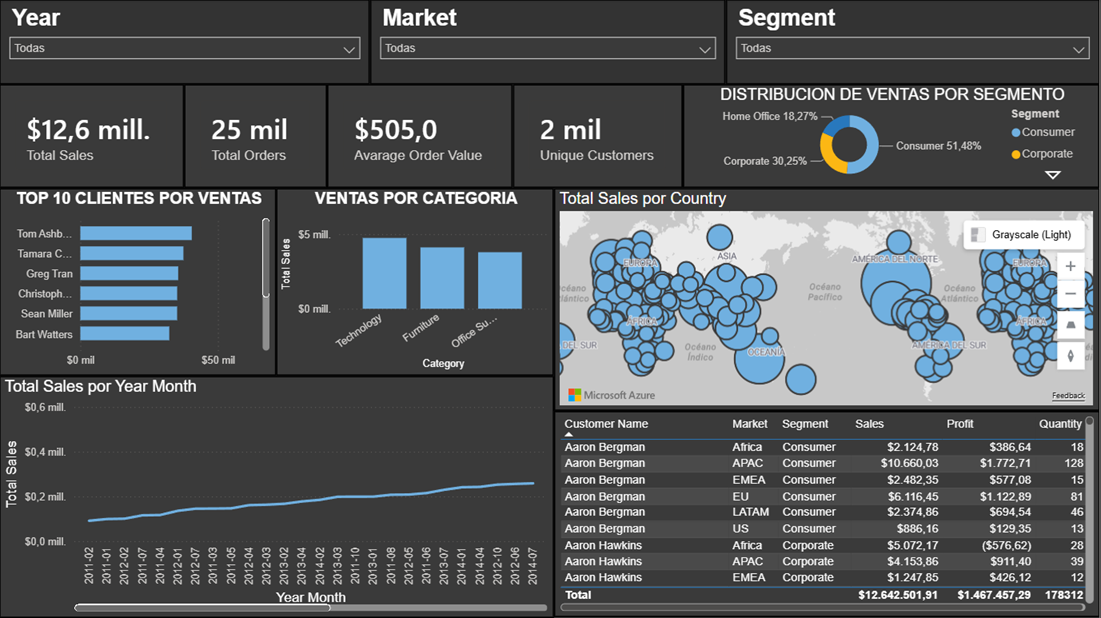

What the dashboard file says about the page in this screenshot:
{"tool":"powerbi","page":{"name":"Sales & Costumer Analysis","canvas":[1280,720],"ordinal":2},"visuals":[{"type":"slicer","fields":{"Values":["Calendar.Year"]},"box":[0,0,431.4,98.8],"z":0},{"type":"slicer","fields":{"Values":["Orders.Market"]},"box":[431.4,0,414,98.8],"z":1000},{"type":"slicer","fields":{"Values":["Orders.Segment"]},"box":[845.1,0,434.9,98.8],"z":2000},{"type":"cardVisual","fields":{"Data":["Orders.Total Sales"]},"box":[0,98.8,215.1,120.9],"z":3000},{"type":"cardVisual","fields":{"Data":["Orders.Total Orders"]},"box":[215.1,98.8,166.3,120.9],"z":4000},{"type":"cardVisual","fields":{"Data":["Orders.Avarage Order Value"]},"box":[381.4,98.8,216.3,120.9],"z":5000},{"type":"cardVisual","fields":{"Data":["Orders.Unique Customers"]},"box":[597.7,98.8,197.7,120.9],"z":6000},{"type":"barChart","title":"TOP 10 CLIENTES POR VENTAS","fields":{"Category":["Orders.Customer Name"],"Y":["Orders.Total Sales"]},"box":[0,219.8,322.1,218.6],"z":7000},{"type":"columnChart","title":"VENTAS POR CATEGORIA","fields":{"Category":["Orders.Category"],"Y":["Orders.Total Sales"]},"box":[322.1,219.8,323.3,218.6],"z":8000},{"type":"donutChart","title":"DISTRIBUCION DE VENTAS POR SEGMENTO","fields":{"Category":["Orders.Segment"],"Y":["Orders.Total Sales"]},"box":[795.4,98.8,484.9,120.9],"z":9000},{"type":"azureMap","fields":{"Category":["Orders.Country"],"Size":["Orders.Total Sales"]},"box":[645.4,219.8,634.9,259.3],"z":10000},{"type":"lineChart","fields":{"Y":["Orders.Total Sales"],"Category":["Calendar.Year Month"]},"box":[0,438.4,645.4,281.4],"z":11000},{"type":"tableEx","fields":{"Values":["Orders.Customer Name","Orders.Market","Orders.Segment","Sum(Orders.Sales)","Sum(Orders.Profit)","Sum(Orders.Quantity)"]},"box":[645,479,635,240],"z":12000}]}

Visuals, with their boxes in screenshot pixels (x1, y1, x2, y2), scaled from the page's 1280x720 canvas onto the 1101x618 screenshot:
slicer - Calendar.Year: 0 0 371 85
slicer - Orders.Market: 371 0 727 85
slicer - Orders.Segment: 727 0 1100 85
cardVisual - Orders.Total Sales: 0 85 185 189
cardVisual - Orders.Total Orders: 185 85 328 189
cardVisual - Orders.Avarage Order Value: 328 85 514 189
cardVisual - Orders.Unique Customers: 514 85 684 189
"TOP 10 CLIENTES POR VENTAS" barChart: 0 189 277 376
"VENTAS POR CATEGORIA" columnChart: 277 189 555 376
"DISTRIBUCION DE VENTAS POR SEGMENTO" donutChart: 684 85 1100 189
azureMap - Orders.Country x Orders.Total Sales: 555 189 1100 411
lineChart - Orders.Total Sales x Calendar.Year Month: 0 376 555 617
tableEx - Orders.Customer Name x Orders.Market: 555 411 1100 617
